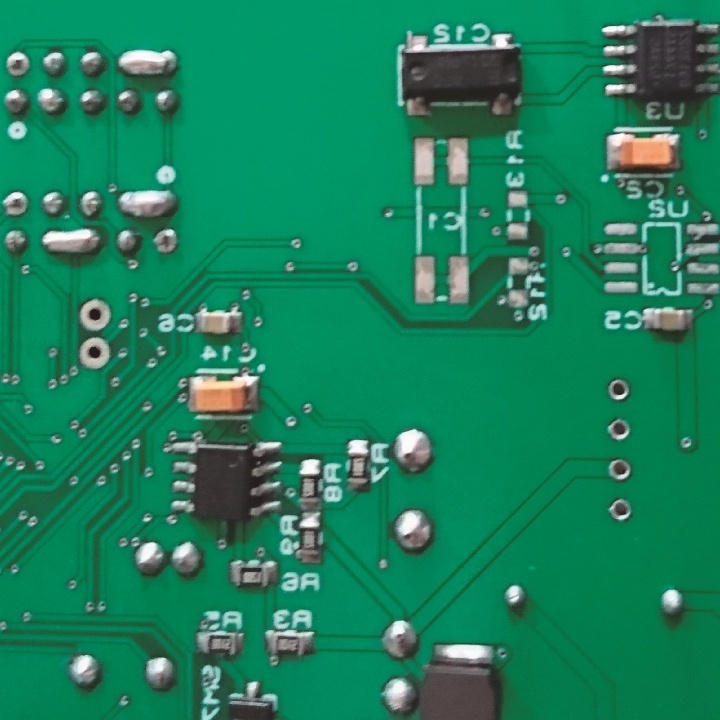F: (78, 298, 116, 332), (77, 338, 115, 370), (3, 50, 30, 80), (151, 229, 181, 255), (3, 191, 31, 218), (604, 377, 633, 403), (607, 456, 634, 483), (608, 495, 633, 524), (606, 418, 631, 440)
P: (113, 46, 179, 82), (113, 189, 180, 219), (40, 229, 103, 258)
